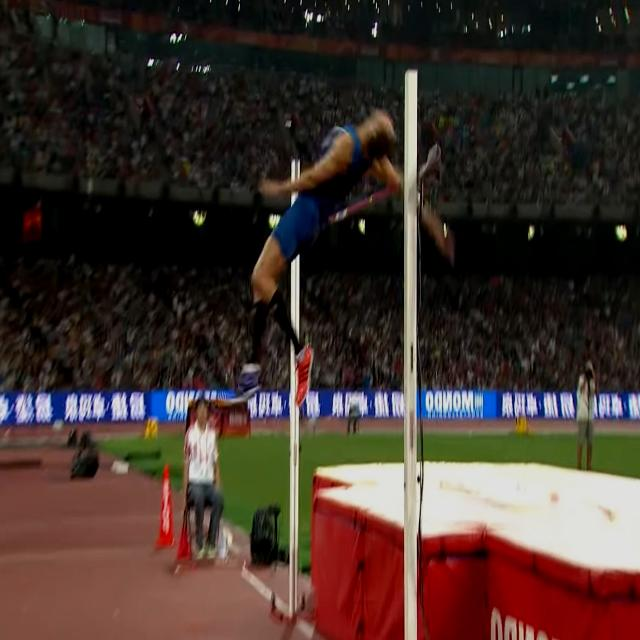jump: (222, 113, 459, 407)
